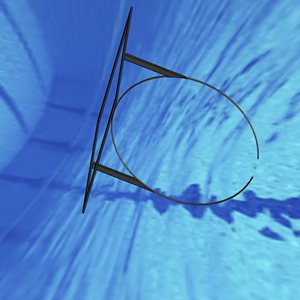circle: (78, 7, 260, 212)
